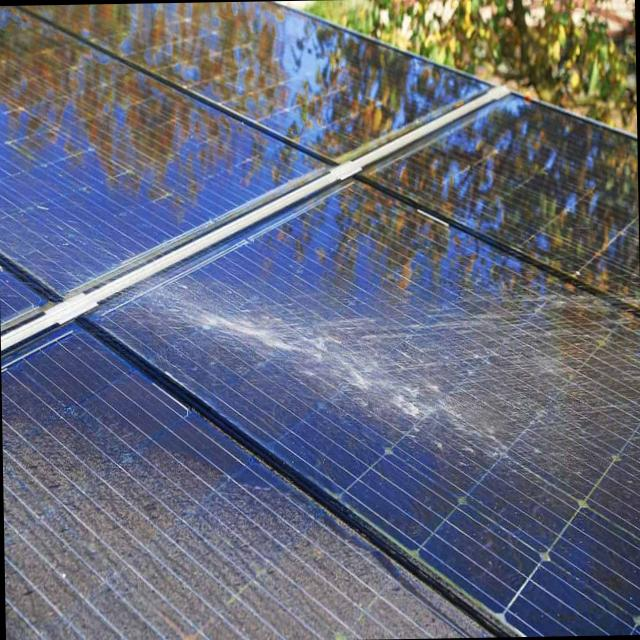faulty: (3, 169, 640, 640)
